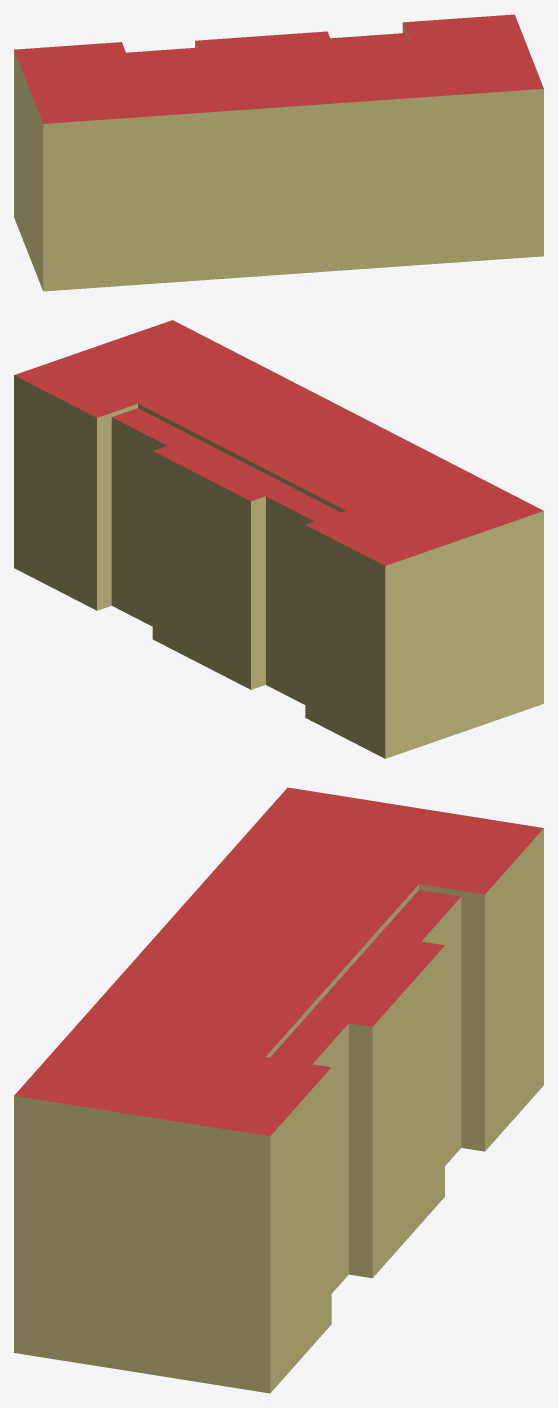
The picture shows the model from 3 angles, top to bottom: view 1: azimuth 30°, elevation 25°; view 2: azimuth 150°, elevation 25°; view 3: azimuth 270°, elevation 25°; orthographic projection. The views are drawn at different scales.
Size of the model in its own units: 40.53 by 26.02 by 13.93.
